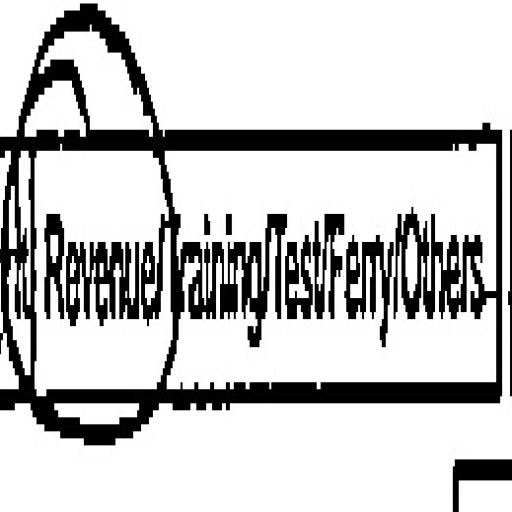check: (33, 0, 161, 501)
